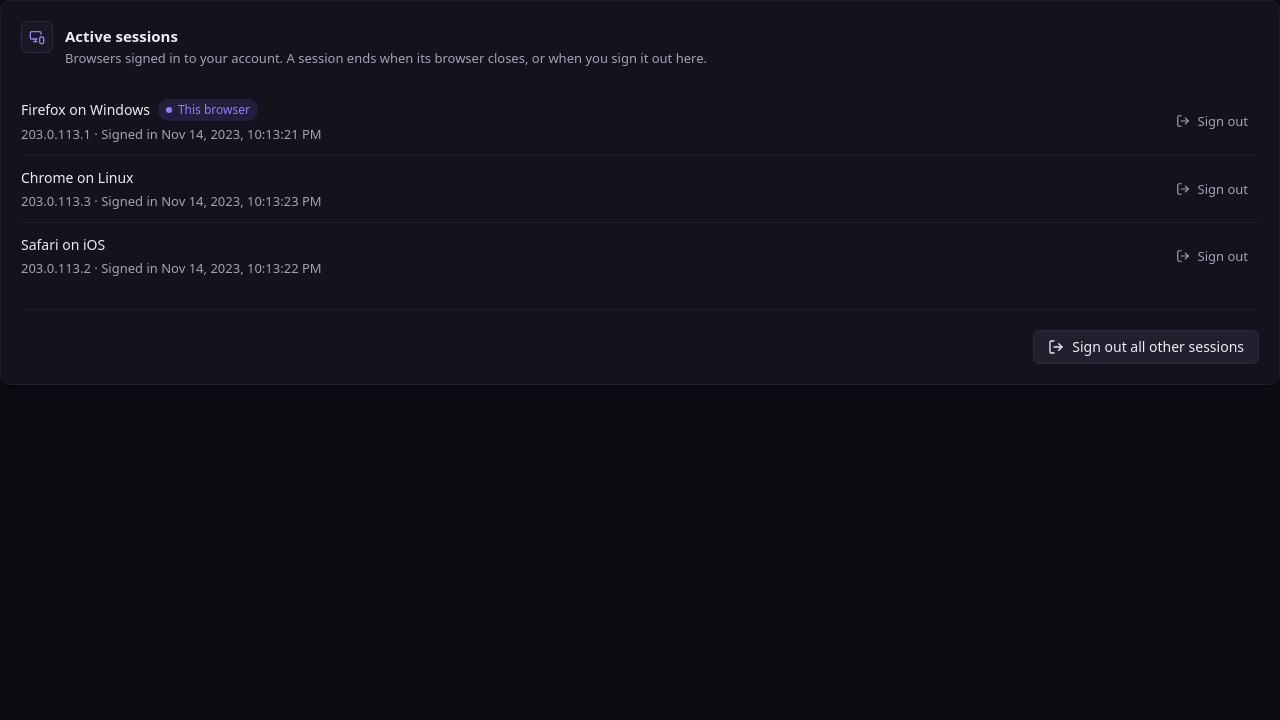
it: Active sessions › shows an error and refreshes when the session was already gone
This screenshot has width=1280, height=720.
What coordinates should you click on to do the following:
click the button with aria-label "Sign out Chrome on Linux"
I would click on:
 (1212, 189)
Its box is x1=1164 y1=175 x2=1259 y2=203.
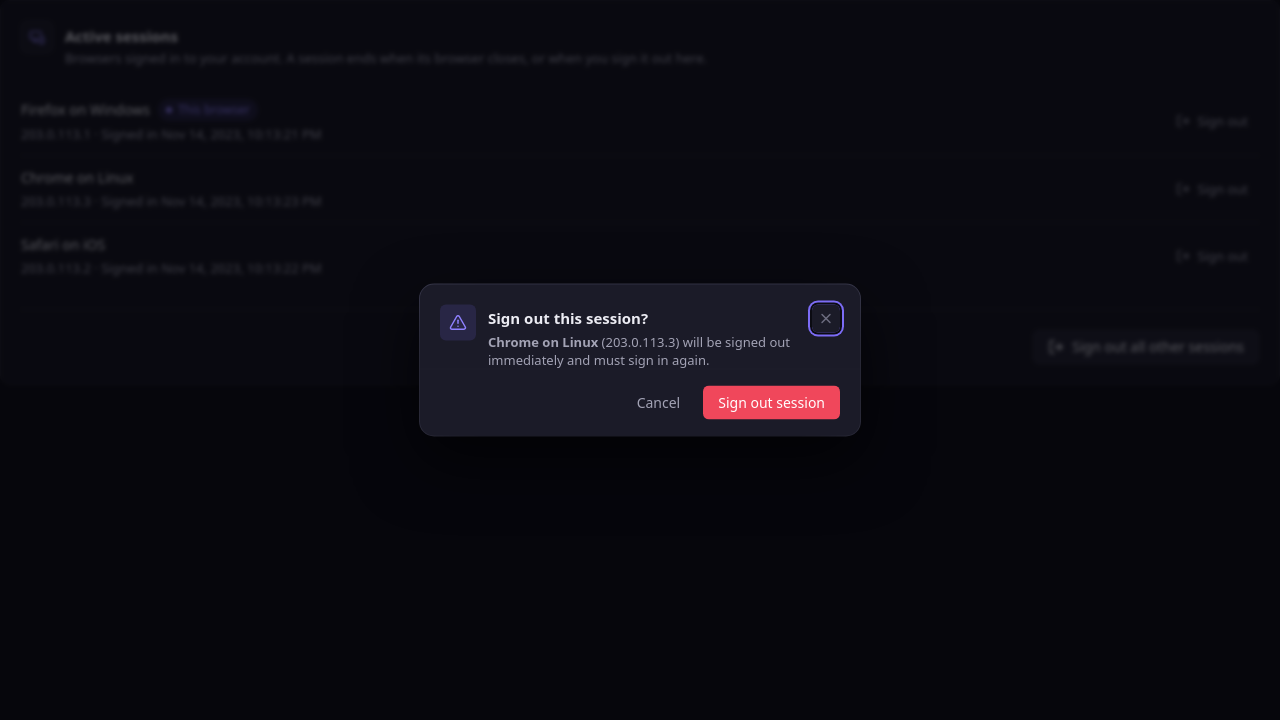
What coordinates should you click on to do the following:
click the button "Sign out session"
I would click on:
 (772, 402)
Its box is x1=703 y1=386 x2=840 y2=420.
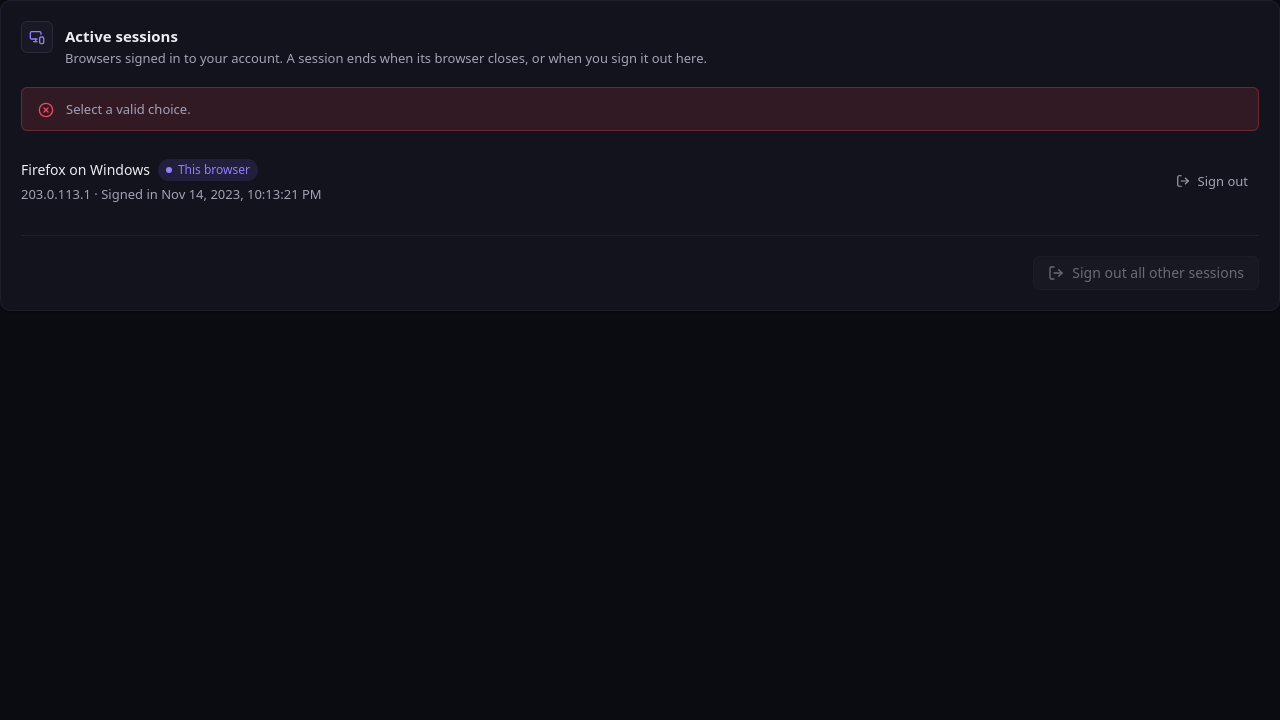
Expected: the text "Select a valid choice." is shown, x1=66 y1=100 x2=191 y2=118
Expected: the text "Chrome on Linux" is gone
